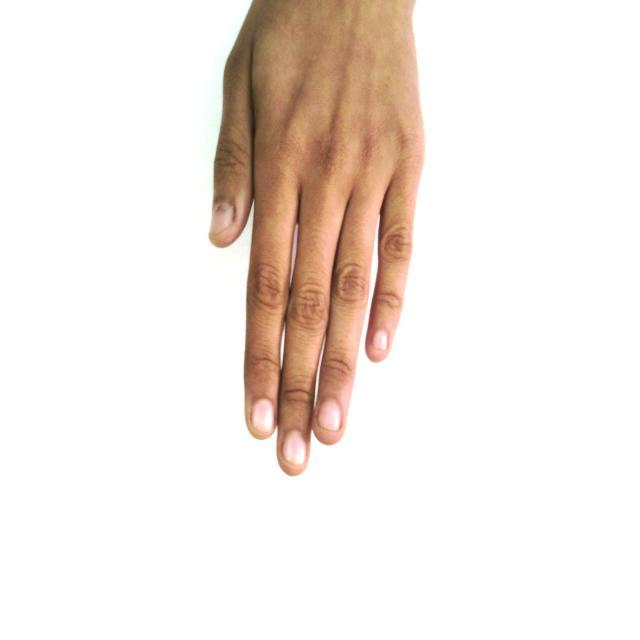Fingernail: (284, 430, 307, 466), (253, 399, 274, 435), (211, 204, 233, 236), (319, 400, 341, 430), (372, 330, 387, 351)
